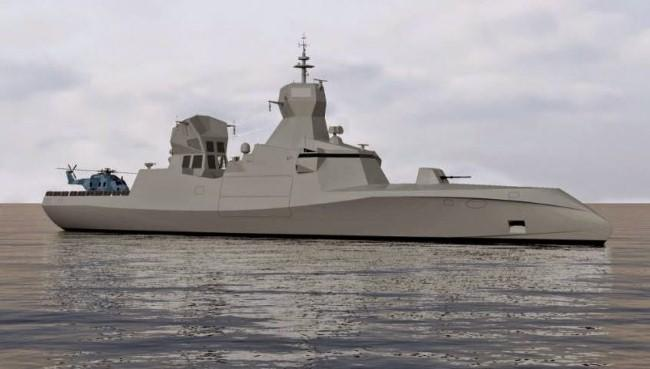MIL_Ship: (42, 52, 616, 249)
